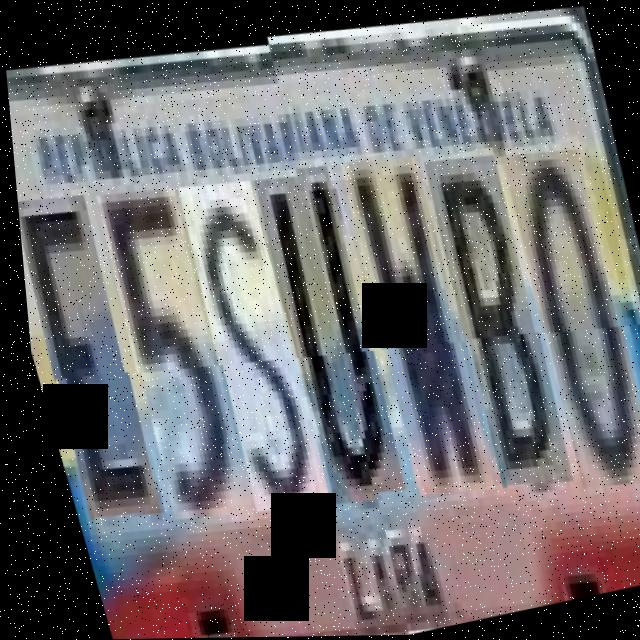5: (83, 175, 261, 524)
B: (412, 147, 582, 492)
E: (13, 186, 170, 524)
O: (489, 137, 640, 491)
S: (165, 167, 339, 515)
U: (242, 158, 417, 505)
W: (328, 148, 504, 502)
